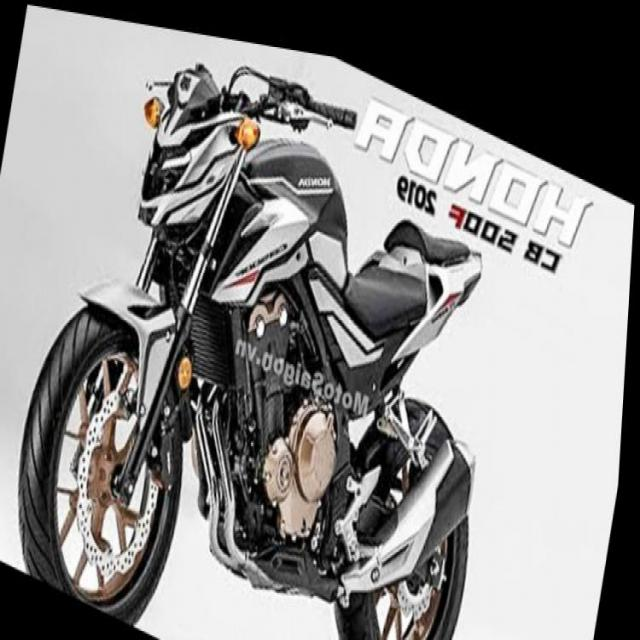CB500F: (2, 3, 533, 639)
